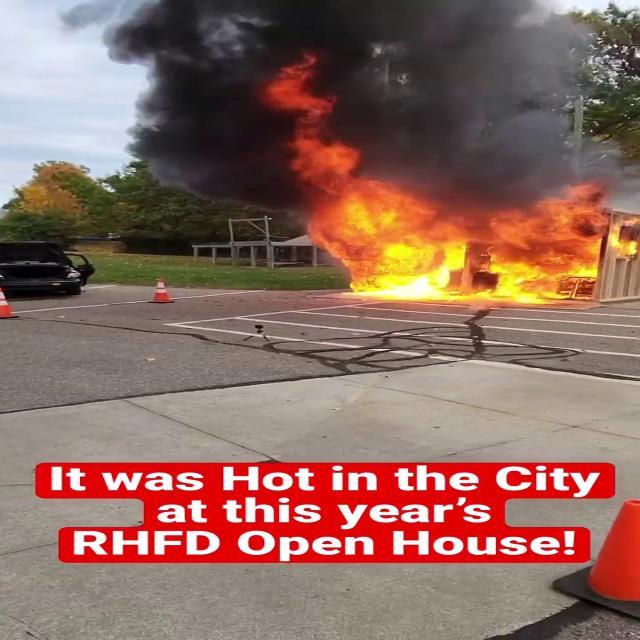Fire: (272, 171, 619, 313)
Smoke: (89, 0, 608, 203)
